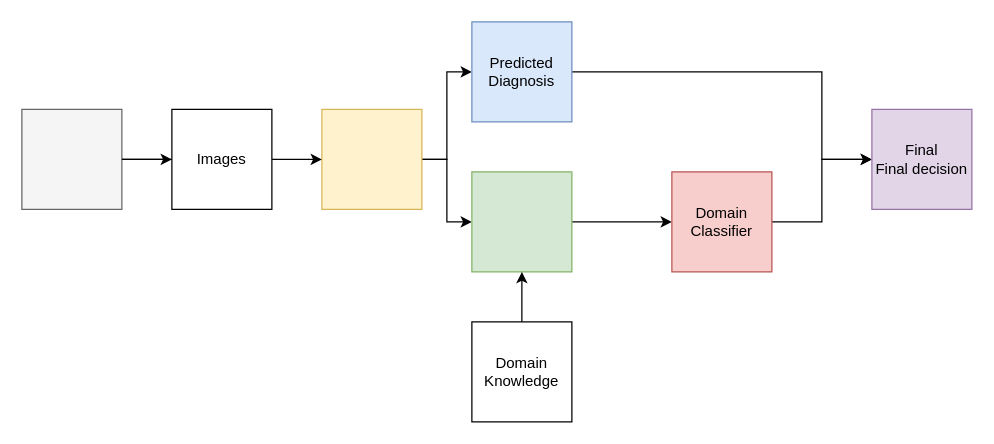
Some shapes in this 994 by 444 pixel diagram are drawn without their labels. The shapes that lost their labels are listed below. From the top down, each one's box as (x1, y1, x2, y2) in pixels, then its label:
(21, 108, 122, 209): Data
(321, 108, 422, 209): MTL Classifier
(471, 171, 572, 272): Predicted Features
